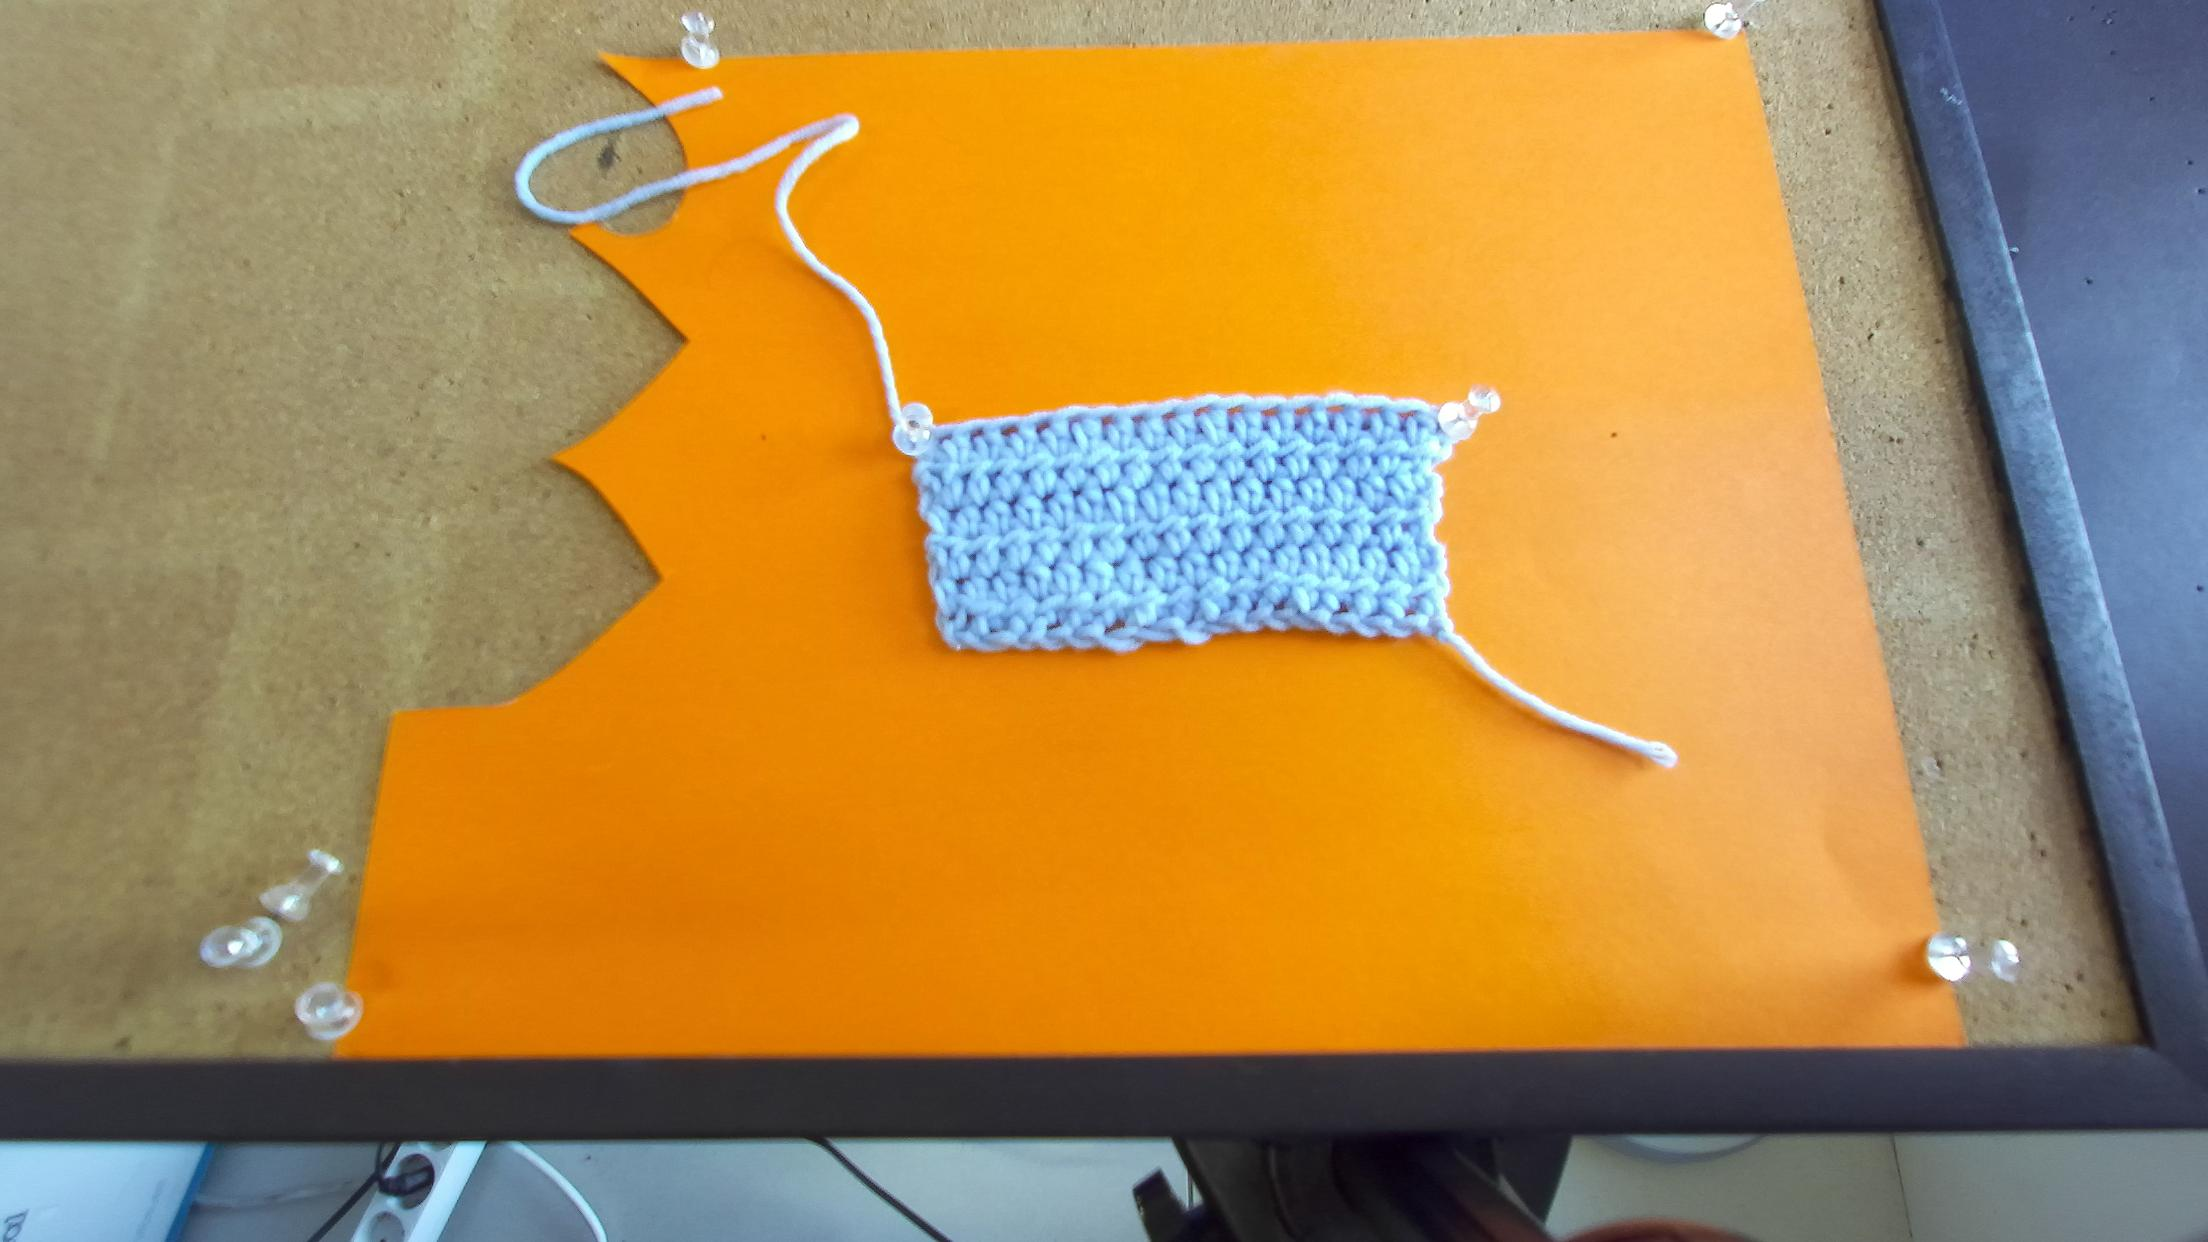hole: (1225, 403, 1245, 419), (969, 428, 986, 444), (1394, 409, 1418, 420), (1068, 417, 1083, 434), (1291, 405, 1310, 417), (1034, 420, 1049, 435), (1001, 425, 1018, 438), (1193, 403, 1210, 417), (1257, 406, 1278, 417), (1099, 414, 1113, 429), (1359, 406, 1382, 416), (939, 431, 952, 444), (1130, 414, 1145, 425), (1324, 405, 1345, 412), (1160, 411, 1175, 420)
swatch: (898, 396, 1486, 661)
